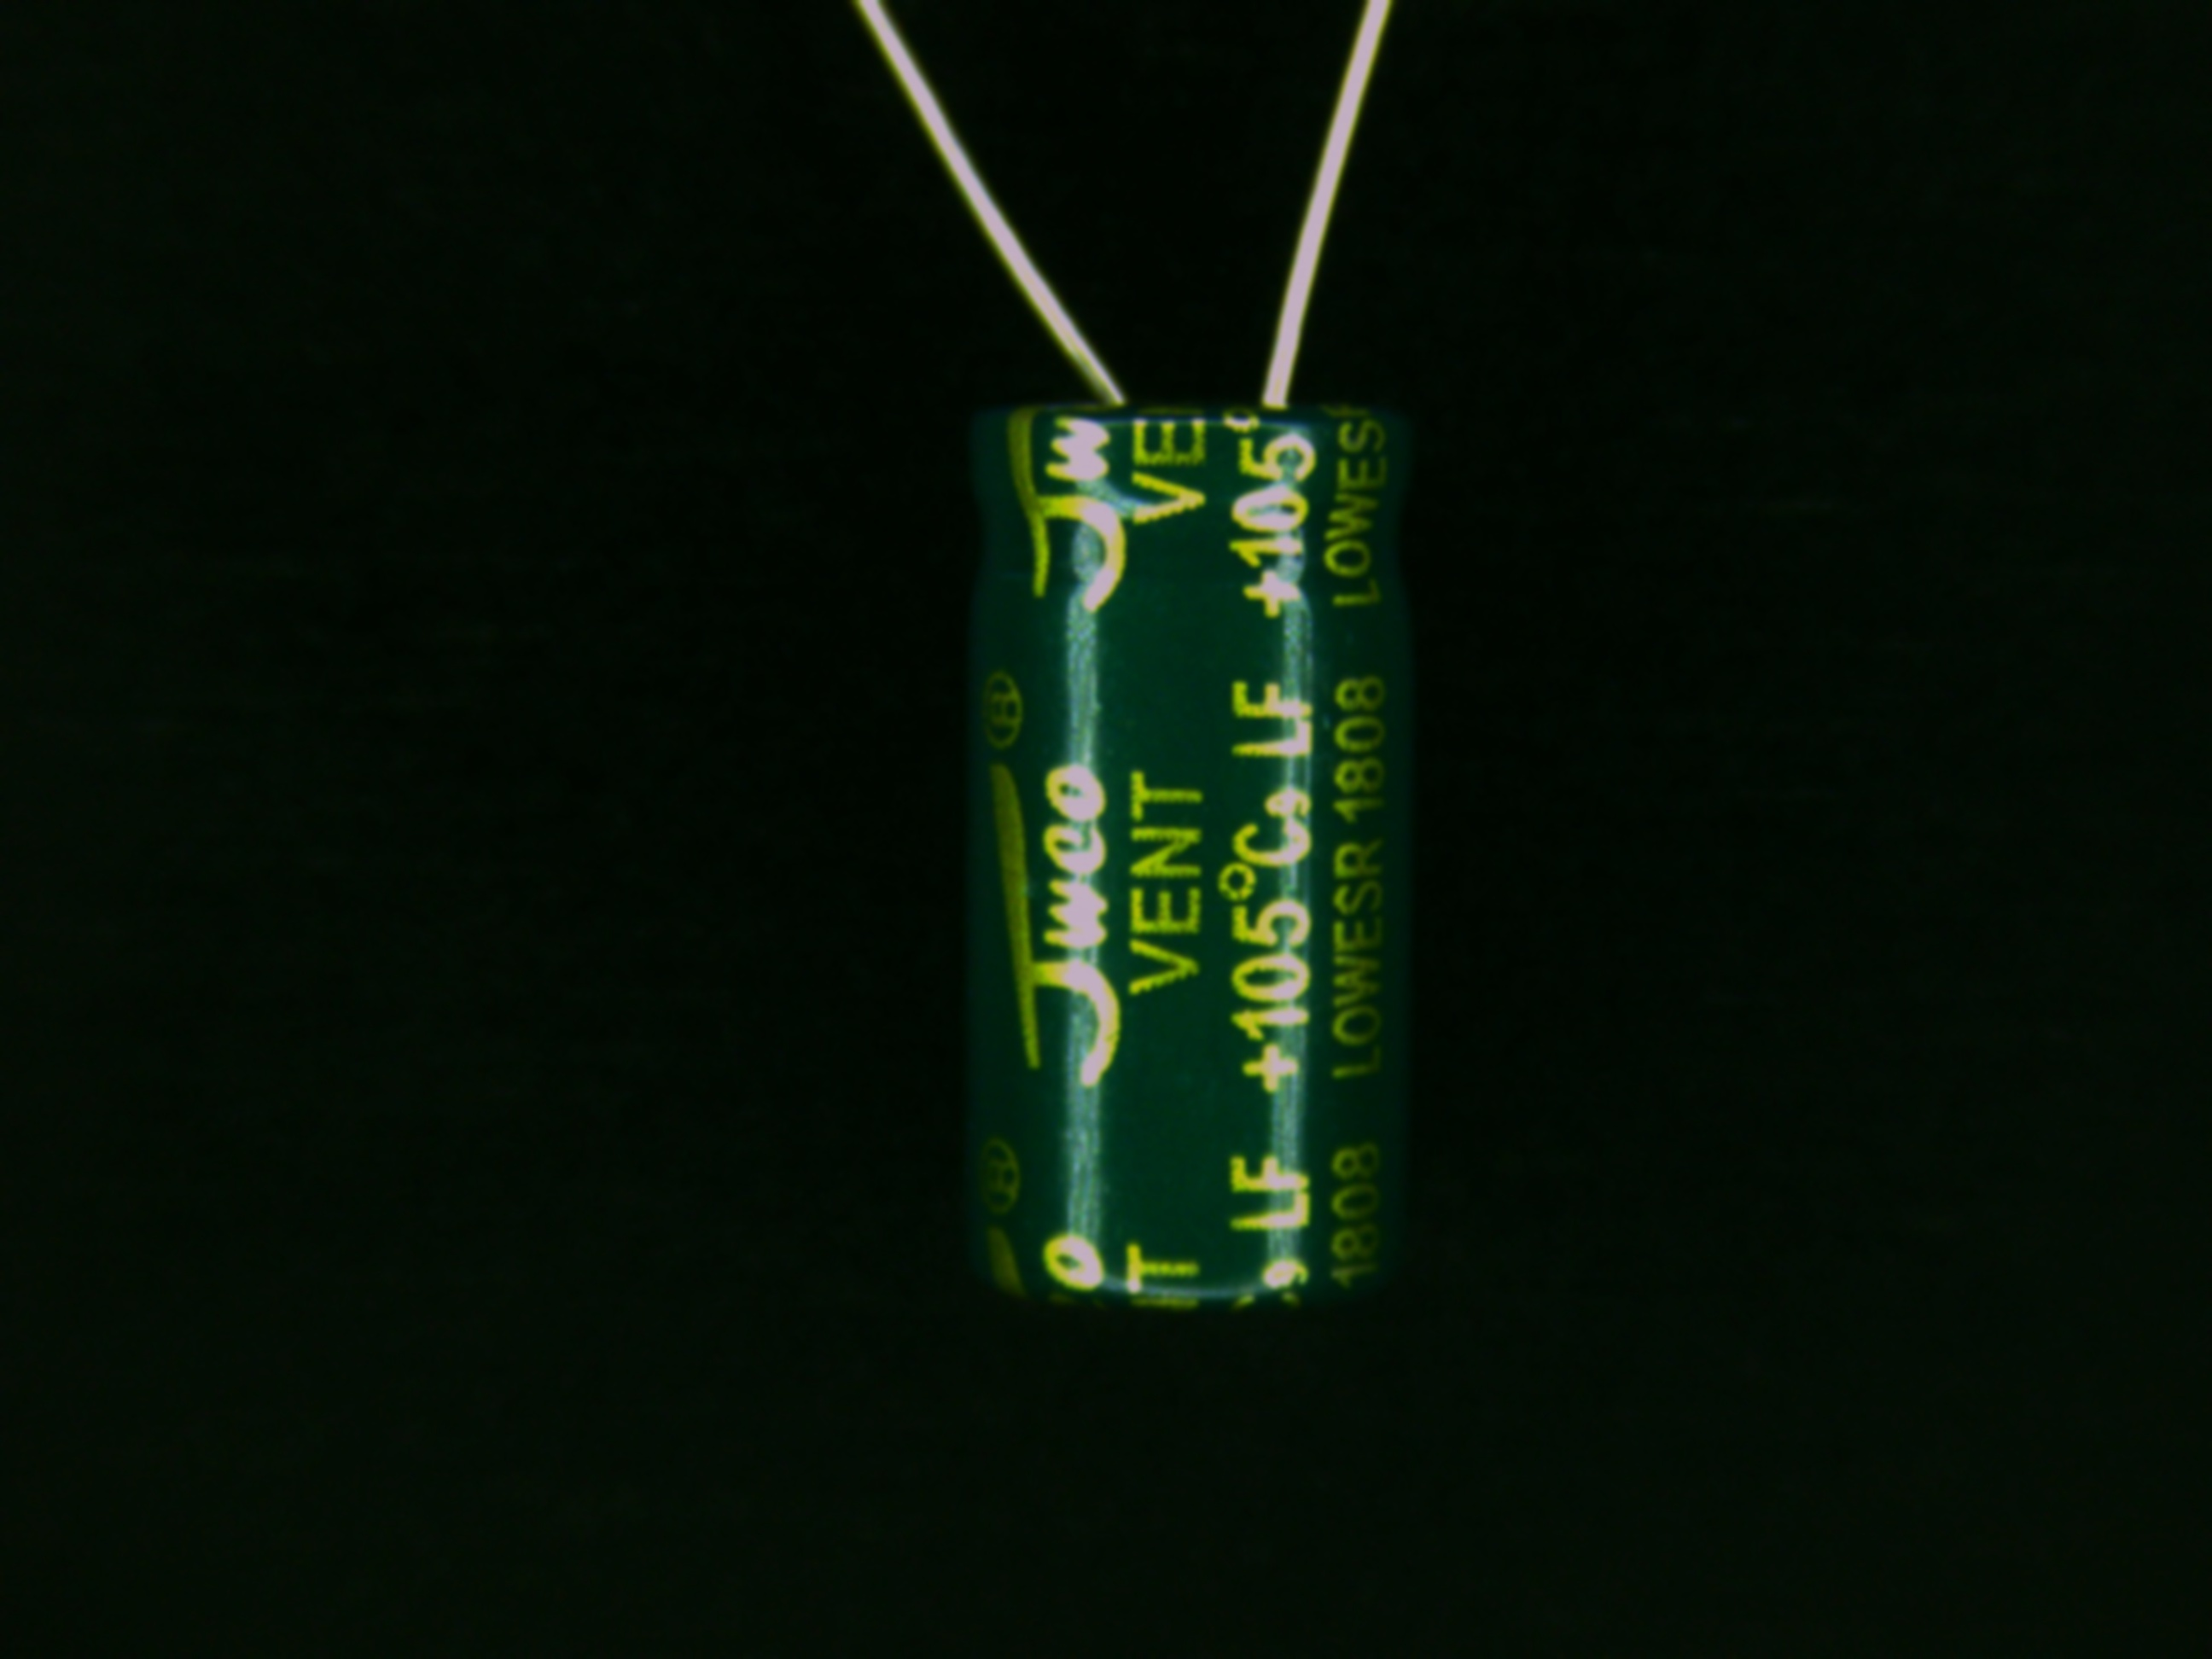c1: (958, 193, 1416, 1316)
